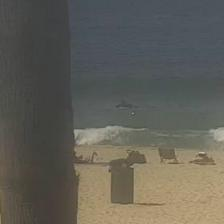surfer: (114, 101, 136, 110)
